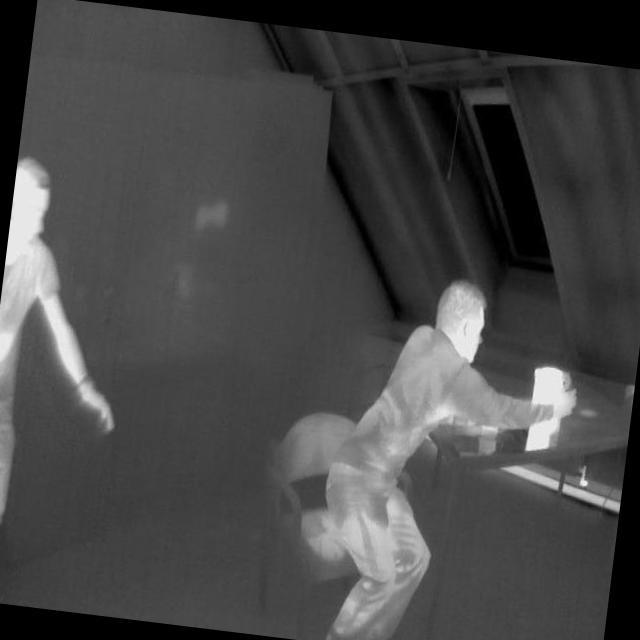person: (284, 265, 566, 640), (0, 147, 151, 614)
